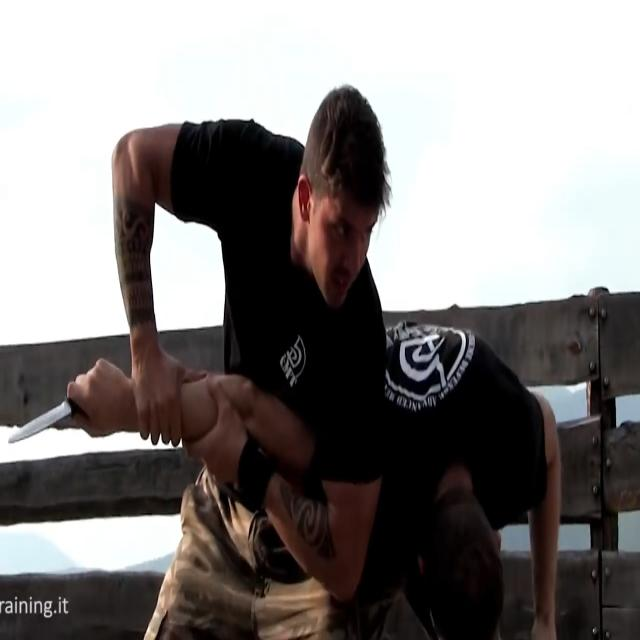knife: (9, 399, 76, 451)
